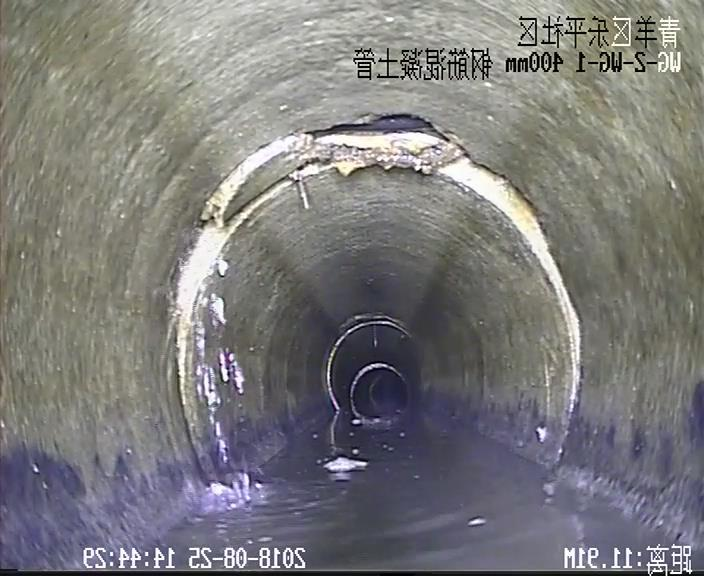CKTJ: (171, 123, 581, 476)
JKCL: (187, 122, 471, 239)
PL: (309, 113, 448, 140)
